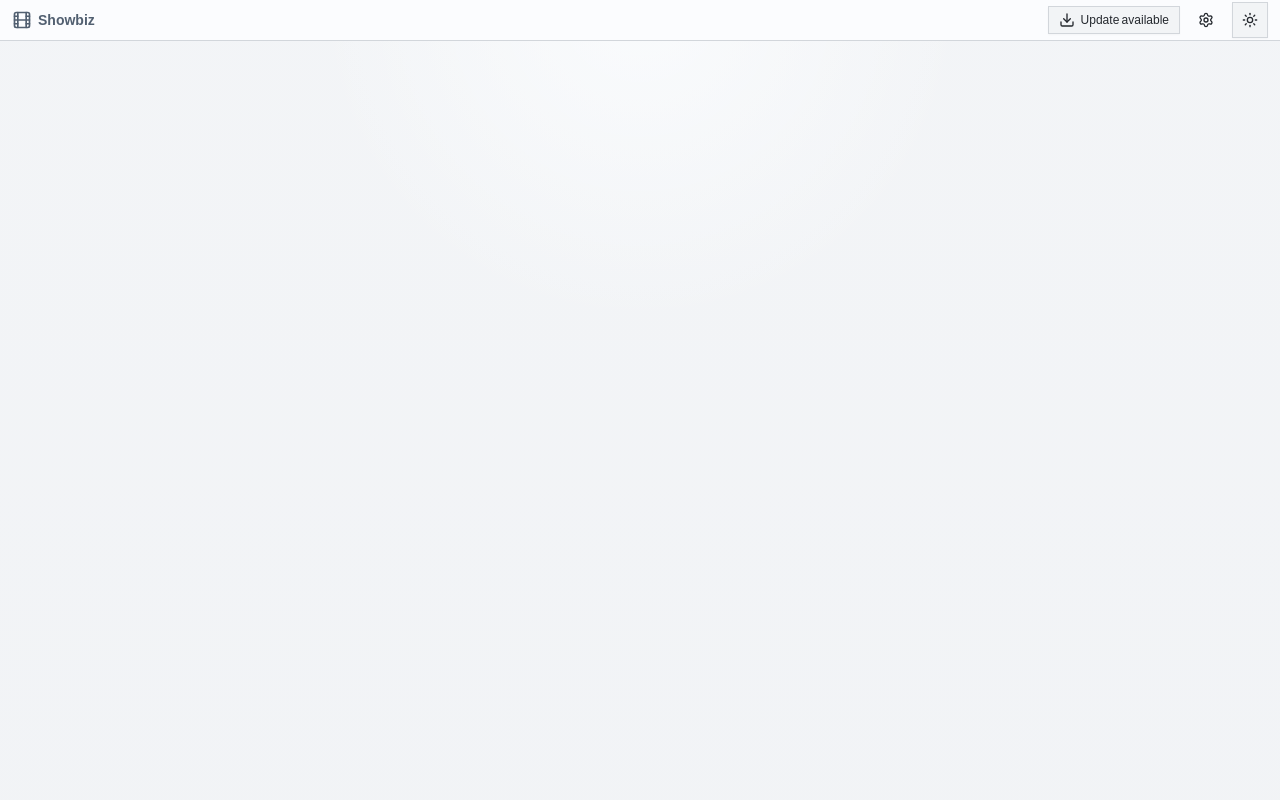
Test case: opens the Updates tab from a available header indicator
The width and height of the screenshot is (1280, 800).
Click the button "Update available" at (1114, 20), box [1048, 6, 1180, 34]
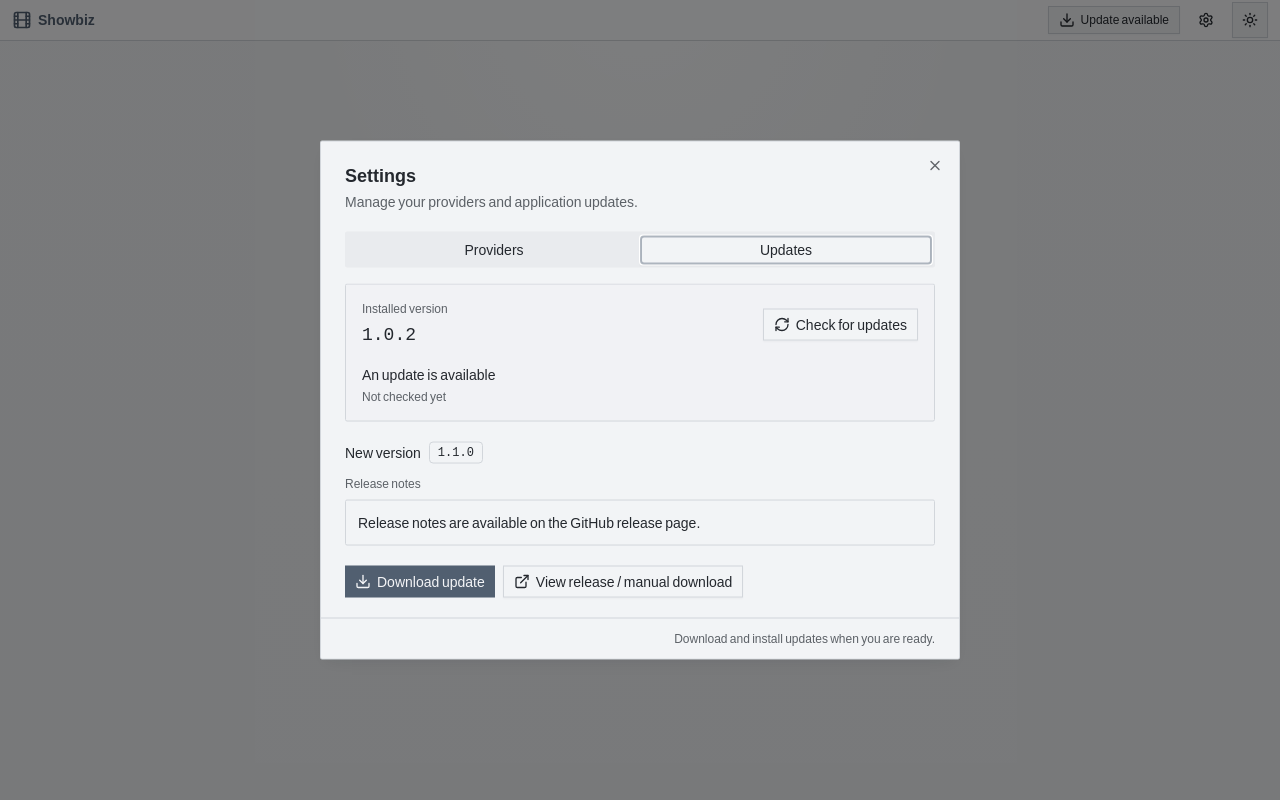
Now the element named "Application updates" is shown, box [345, 284, 935, 618]
